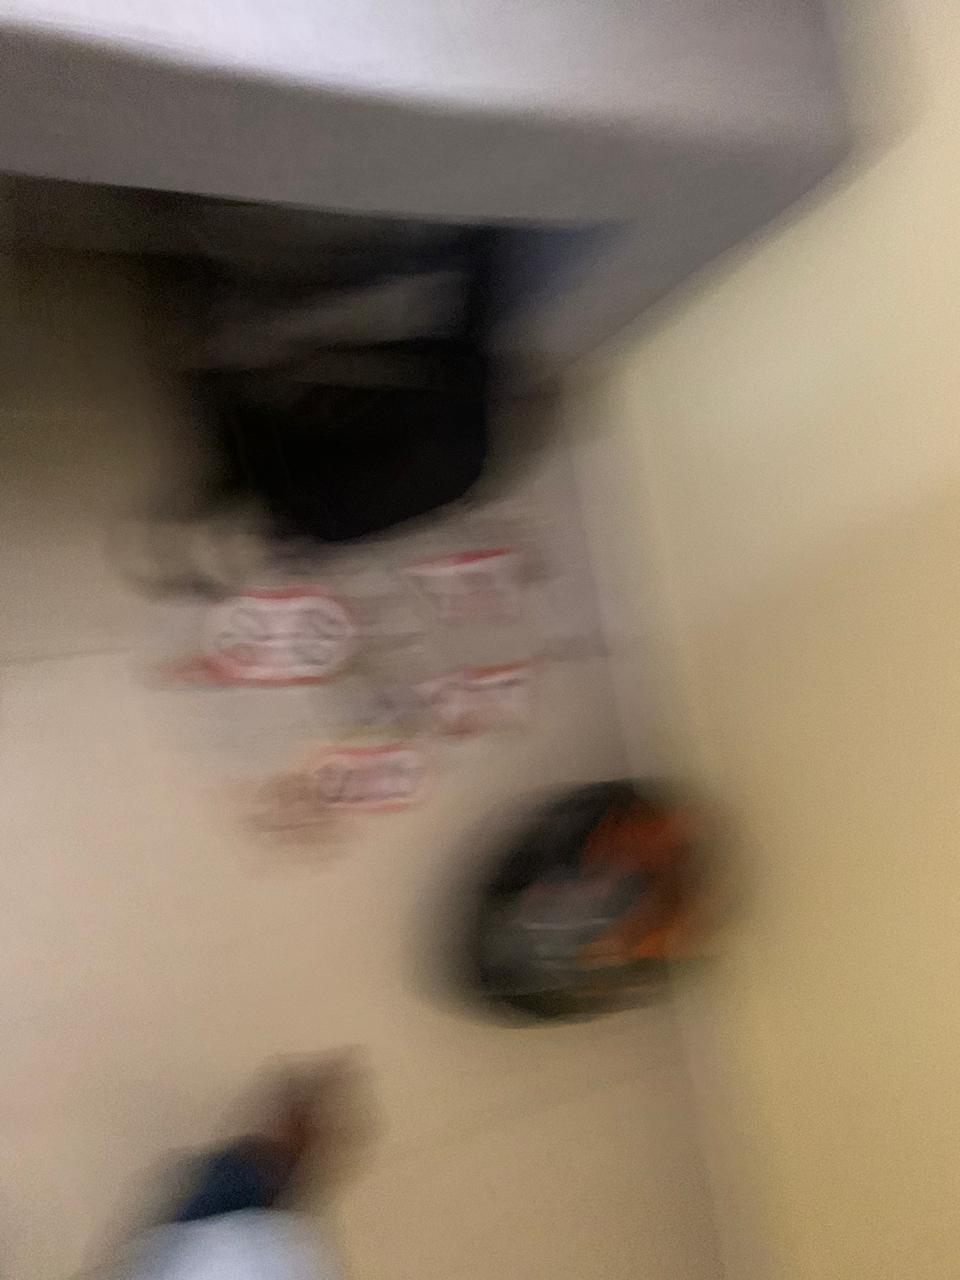SPEED LIMIT (60 KM/H): (199, 584, 355, 692)
